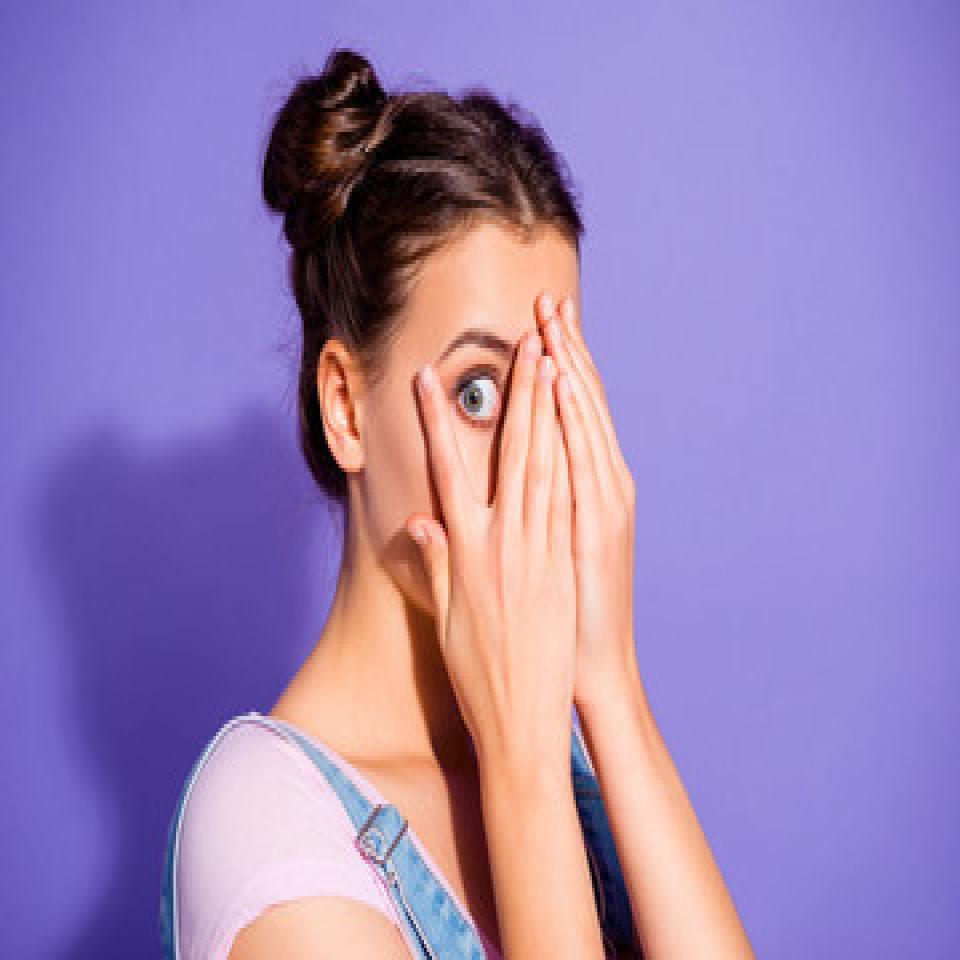Scared: (366, 215, 639, 665)
